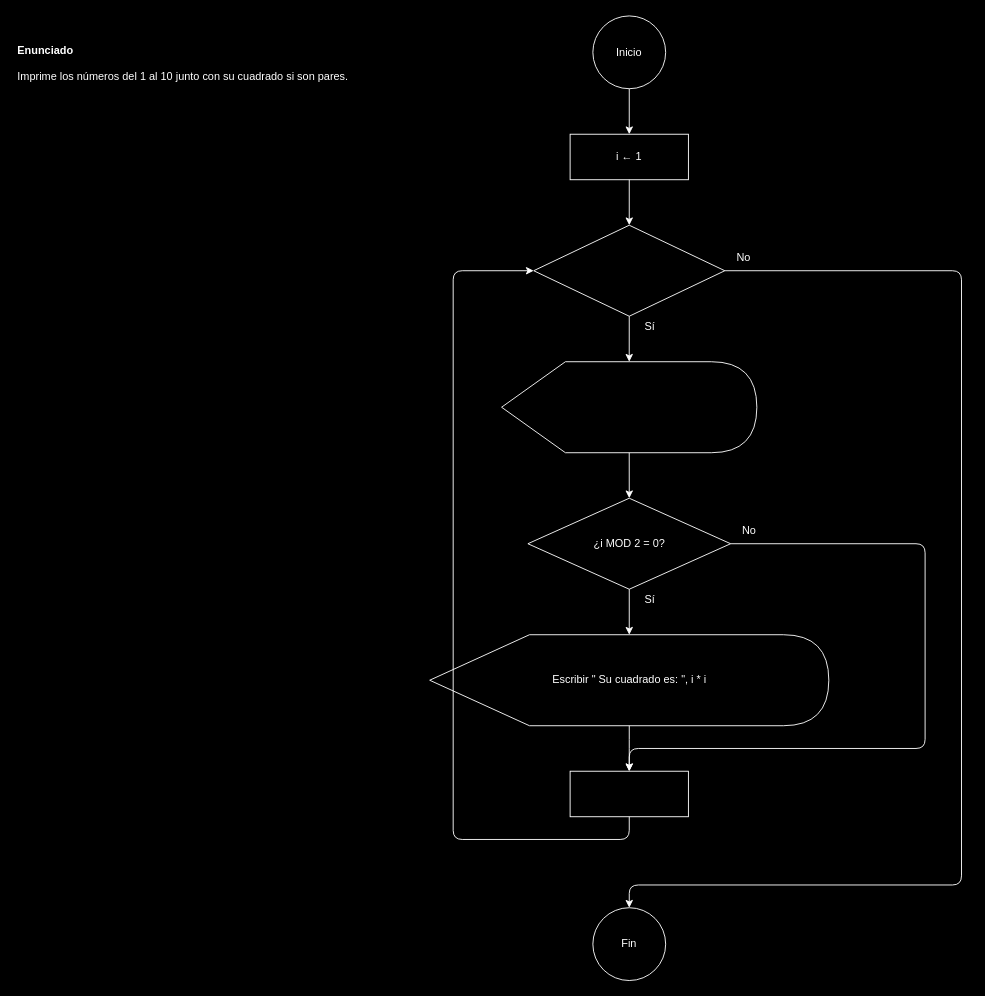
Some shapes in this 985 by 996 pixel diagram are drawn without their labels. The centre of each missing label's shape, as x and y in pixels:
Escribir "Número: ", i: point (629, 407)
i ← i + 1: point (628, 793)
¿i <= 10?: point (629, 270)
